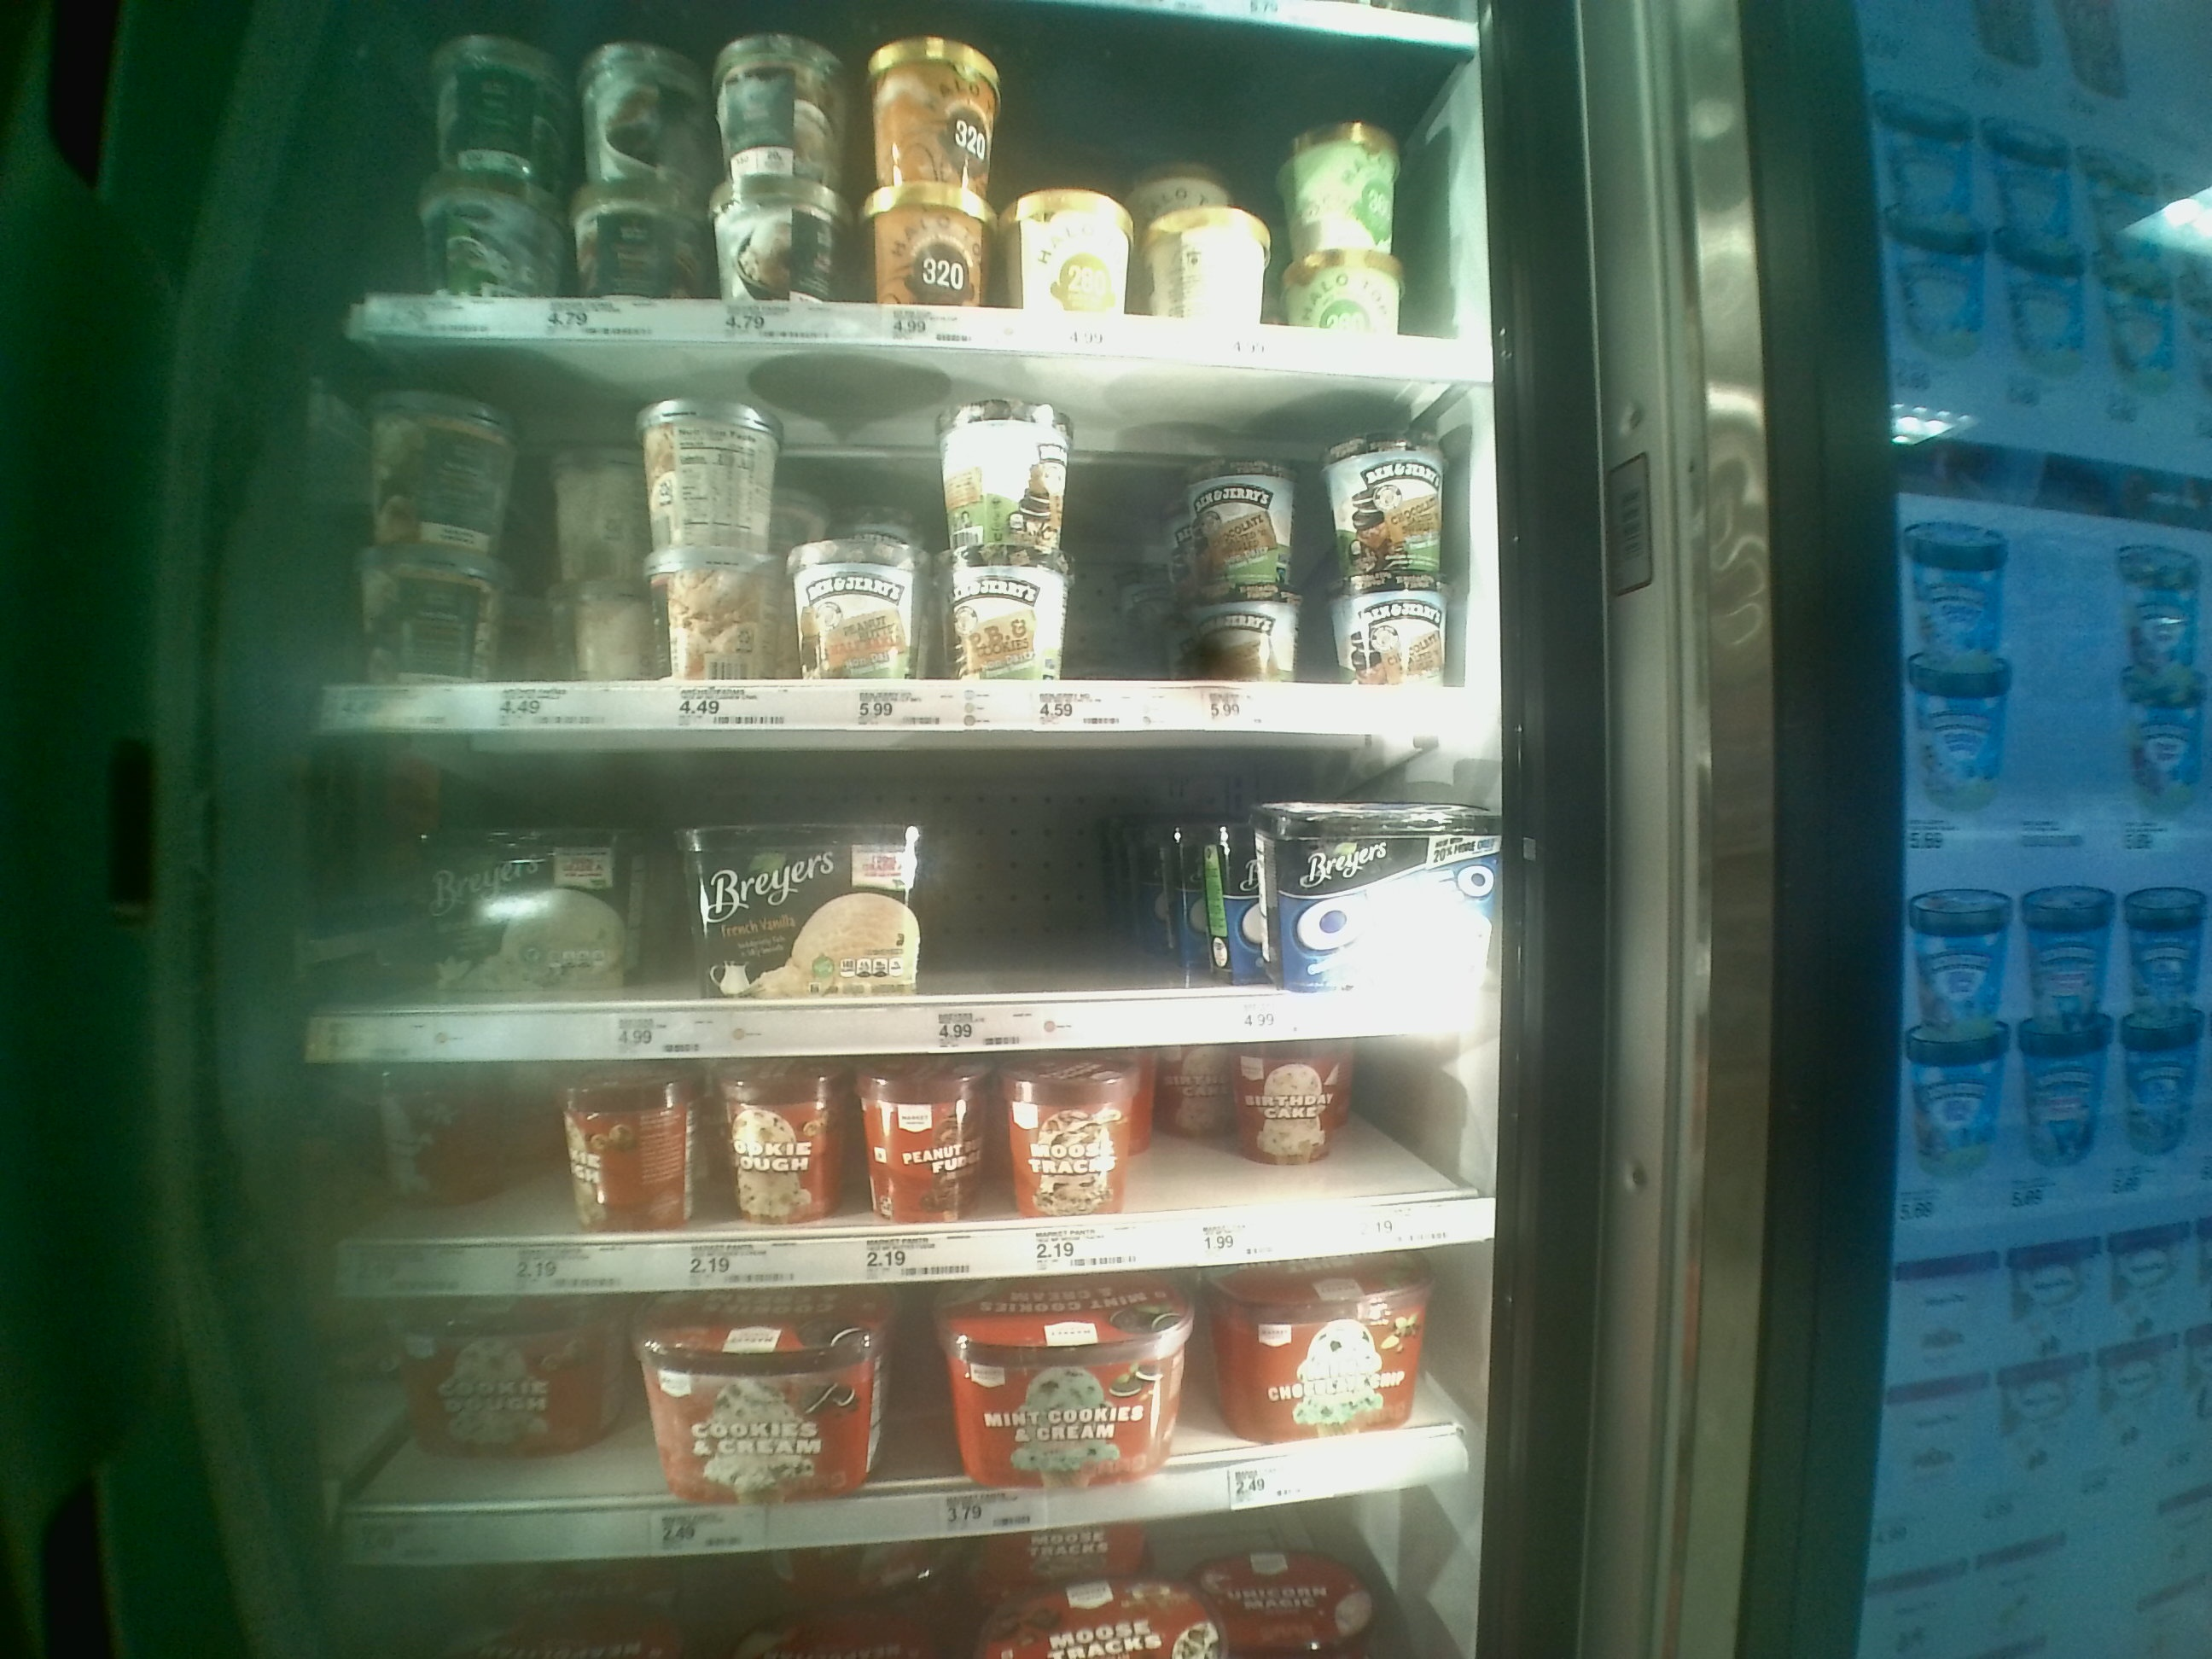shelf: (307, 336, 1493, 734), (314, 737, 1501, 1040), (322, 1295, 1487, 1556), (310, 1044, 1505, 1281)
